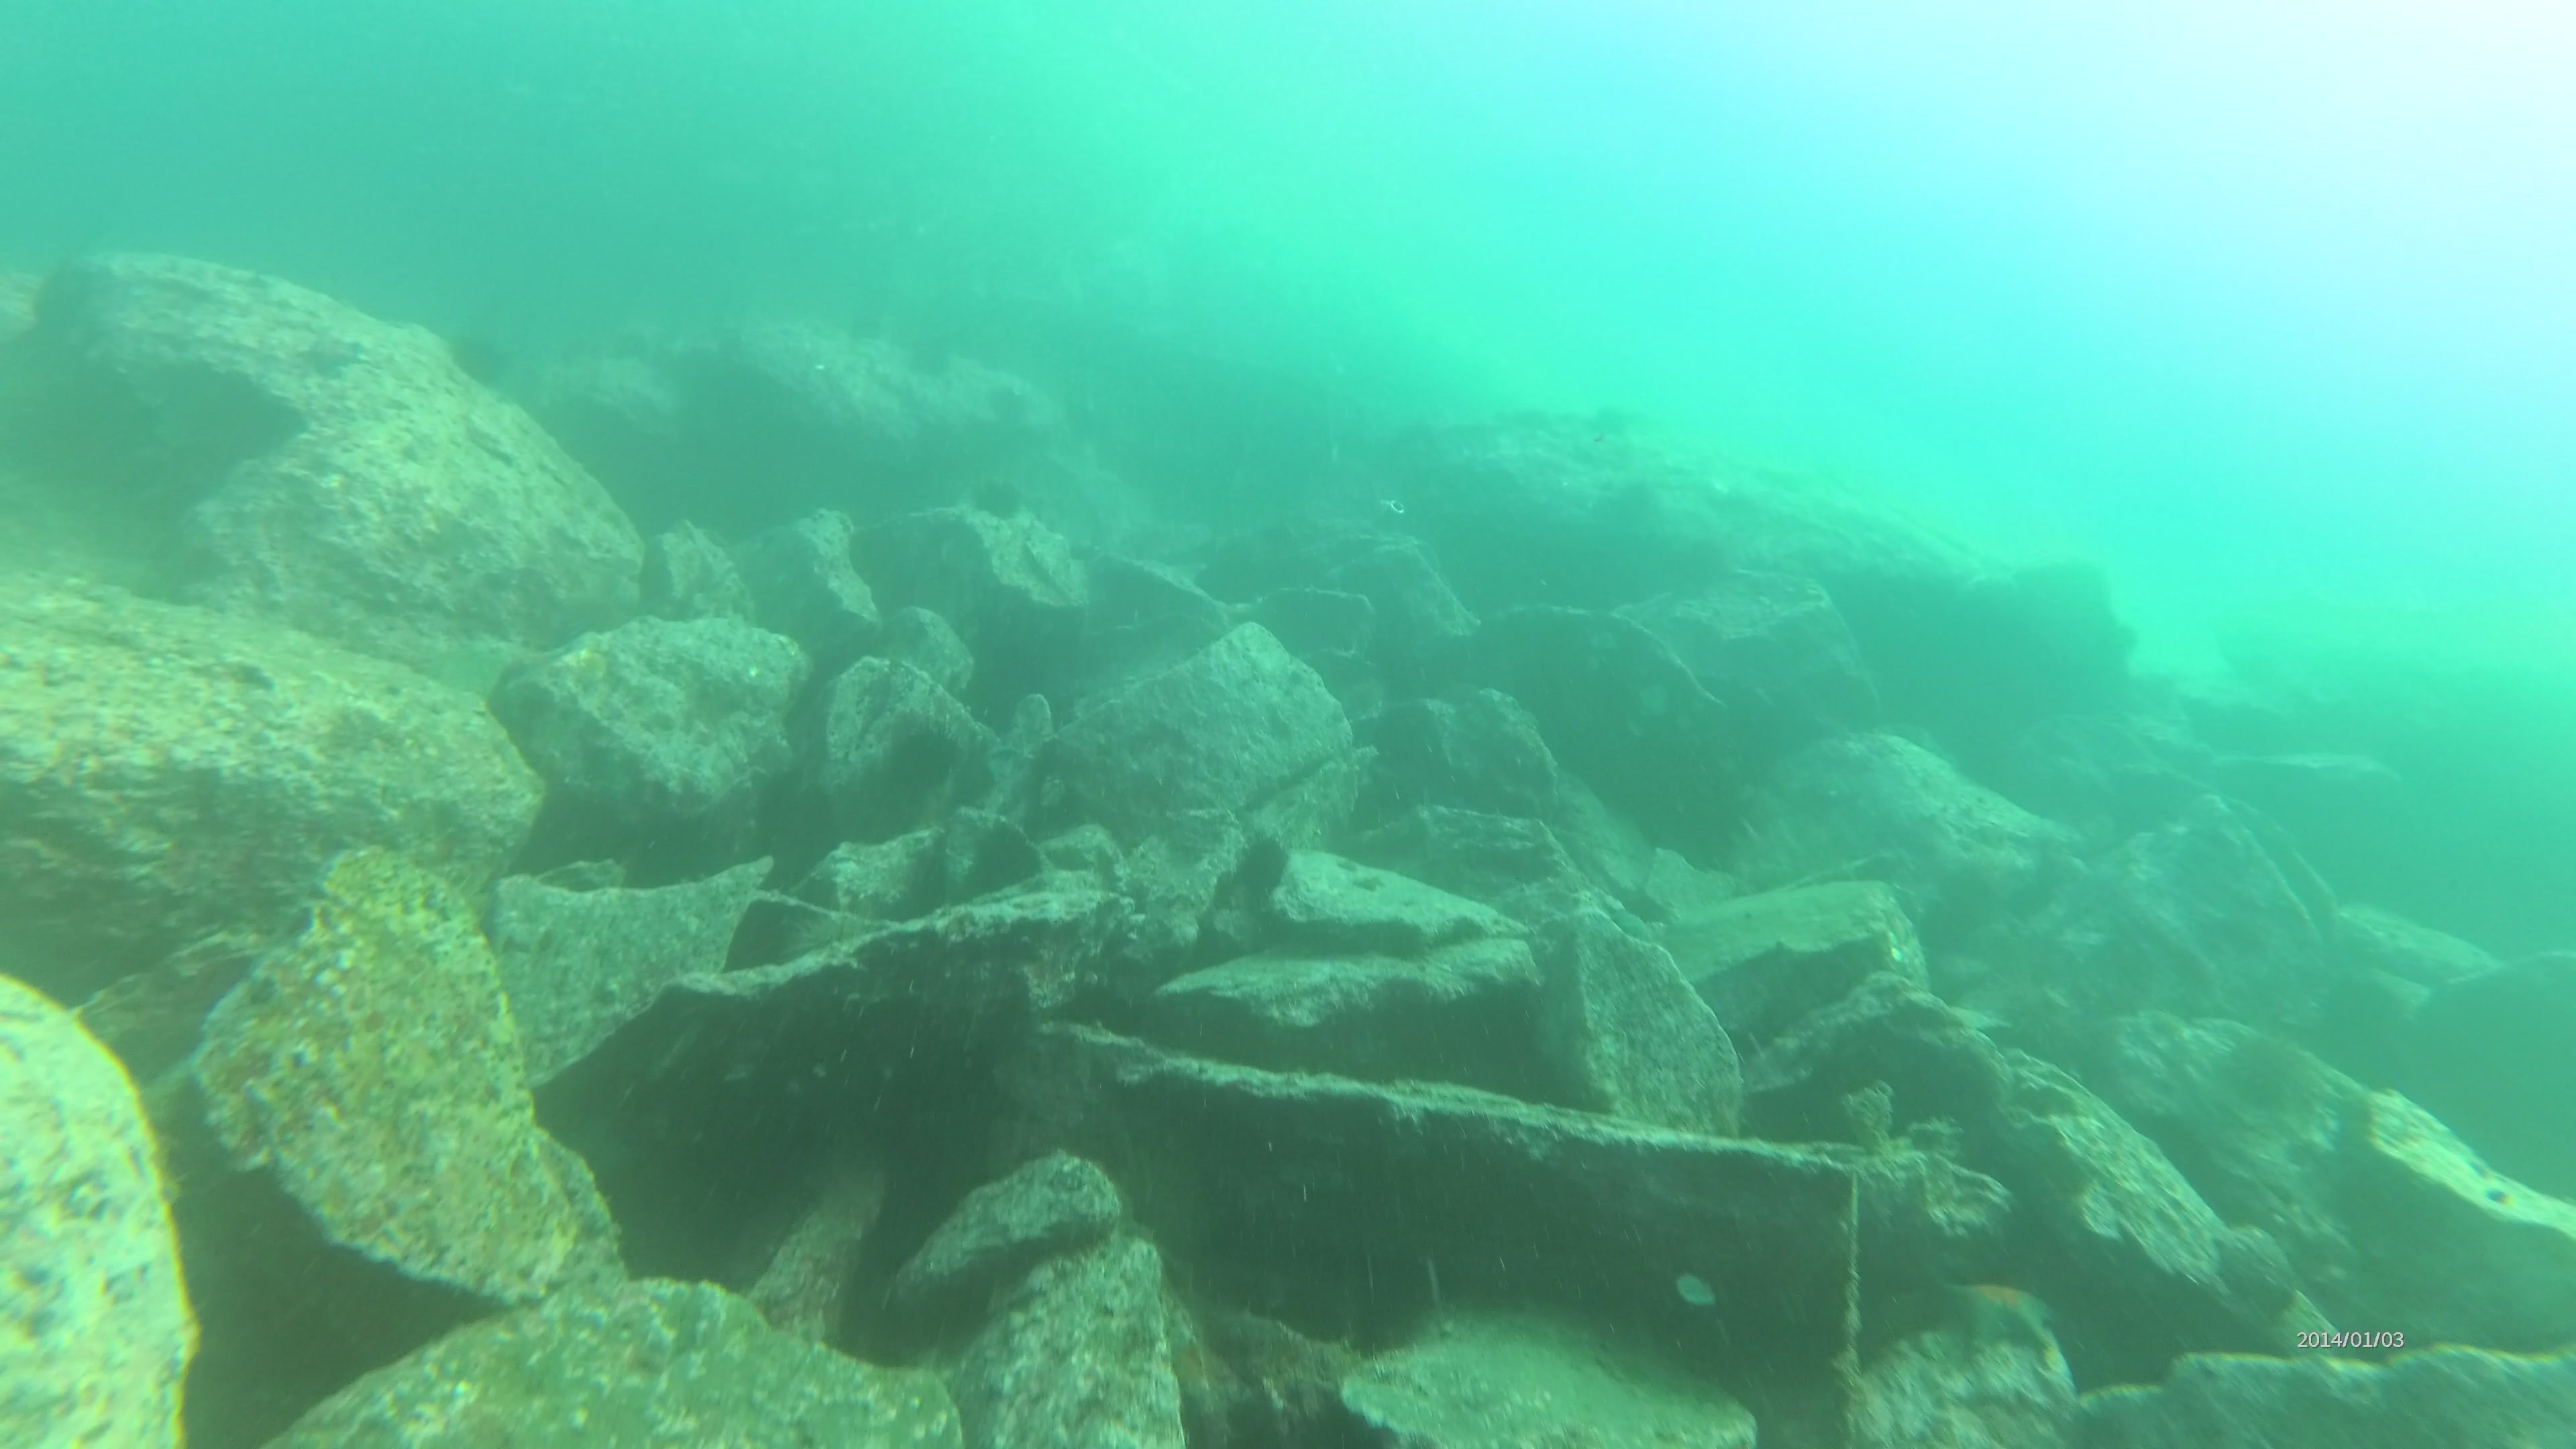echinus: (2217, 1028, 2339, 1127), (895, 711, 962, 786), (451, 336, 513, 391), (980, 379, 1039, 419), (902, 336, 957, 375), (975, 483, 1023, 522)
starfish: (1934, 1265, 2074, 1368)
